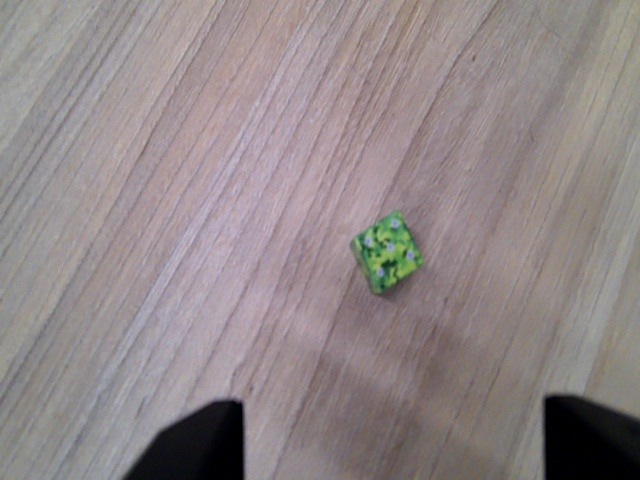grass: (348, 212, 423, 297)
